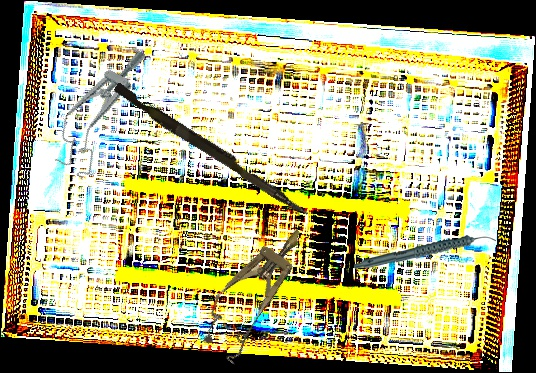Handpiece: (353, 232, 497, 272)
Pusher: (110, 82, 314, 218)
Speculum: (189, 214, 322, 366), (41, 35, 157, 182)
